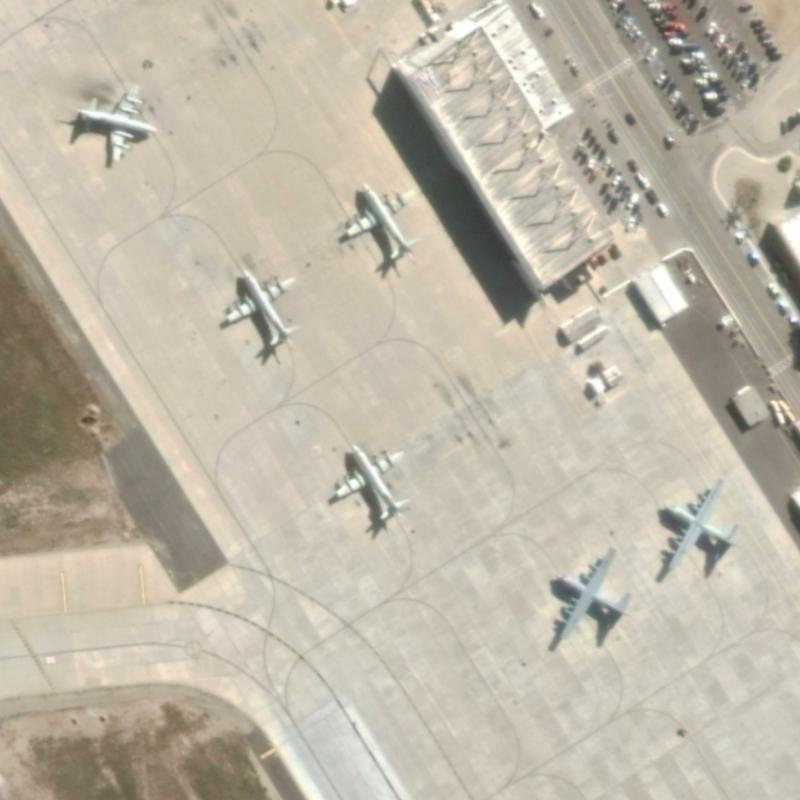A2: (652, 472, 744, 589), (540, 544, 634, 654)
A9: (210, 258, 309, 355), (338, 174, 428, 274), (323, 437, 418, 530), (70, 77, 159, 172)
